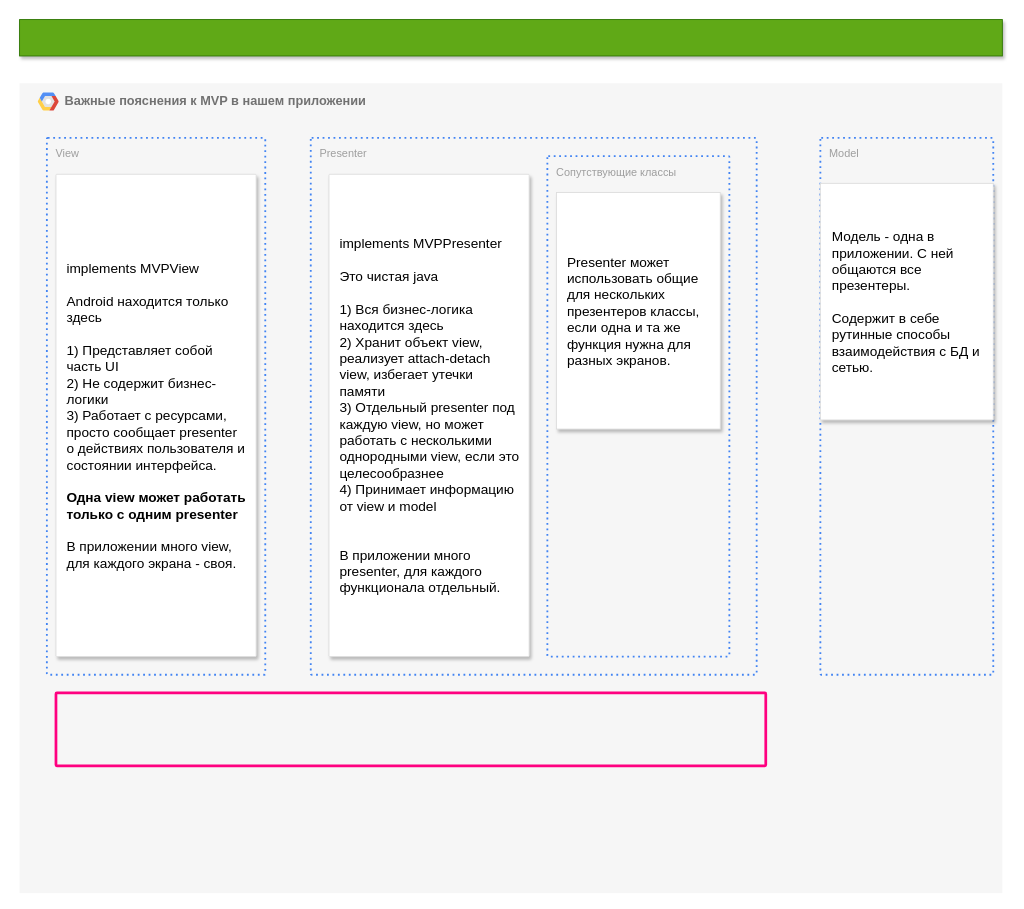
Image size: 1024x909. Some labels were removed from this diagram. The shapes that lost their labels are listed below. From the top down, each one's centre as x and y in pixels, then its label:
At (x=511, y=38): "Архитектура android-приложения, версия 1. Таблица 1".
At (x=410, y=729): "Для лучшего понимание MVP посмотрите ссылки в описании к карточке в trello".
